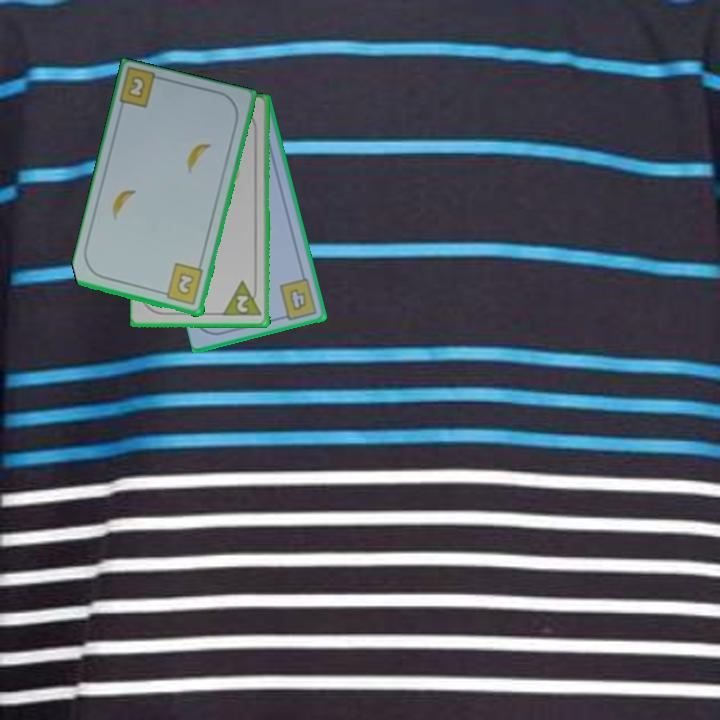2b: (158, 260, 206, 308), (124, 73, 148, 101)
2p: (221, 278, 265, 319)
4b: (276, 275, 320, 323)
